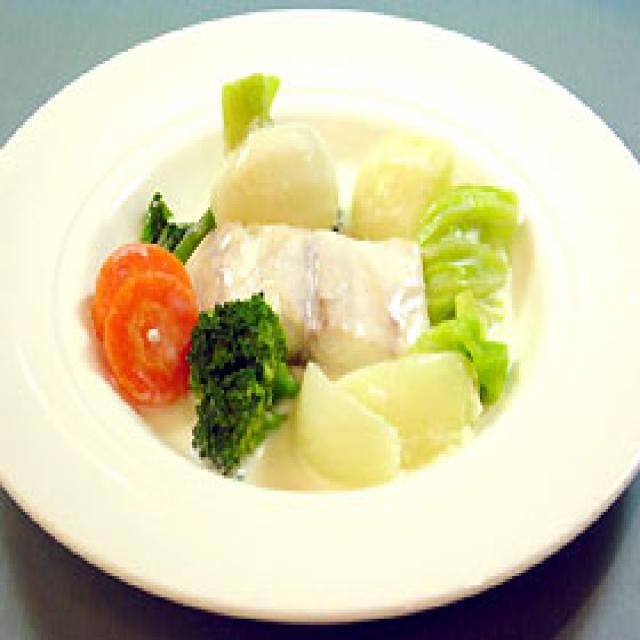汤锅炖物: (28, 6, 588, 591)
